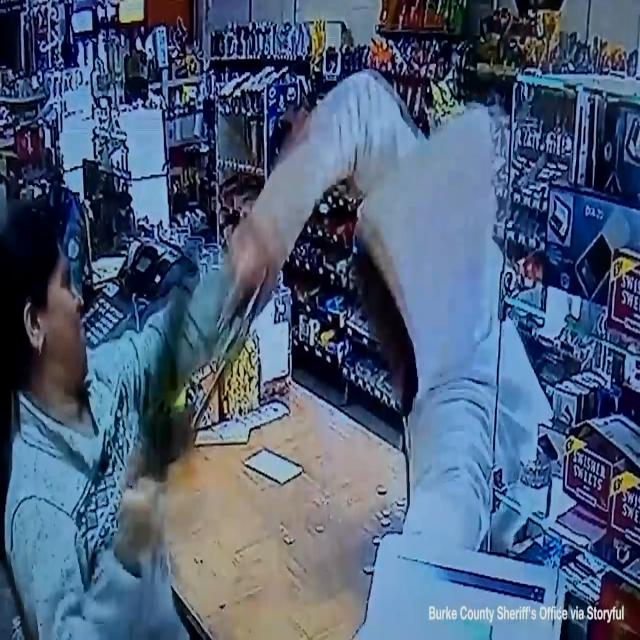fight: (3, 86, 525, 640)
